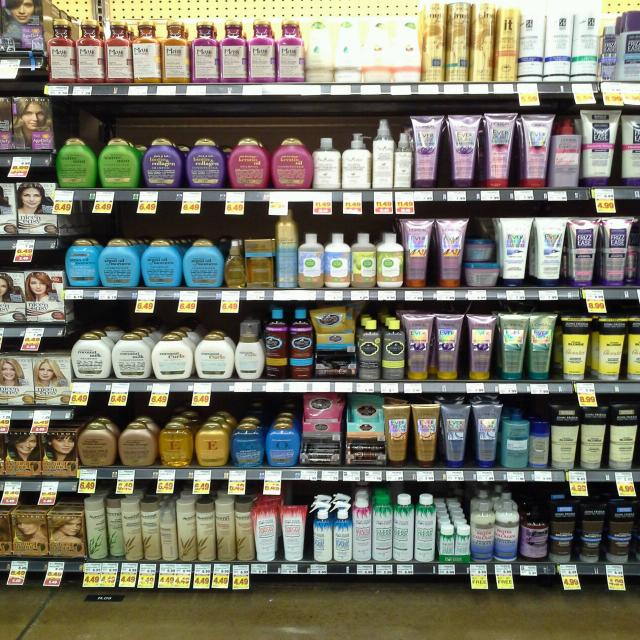unorganised: (520, 11, 545, 80), (106, 500, 122, 558), (464, 238, 497, 263)
